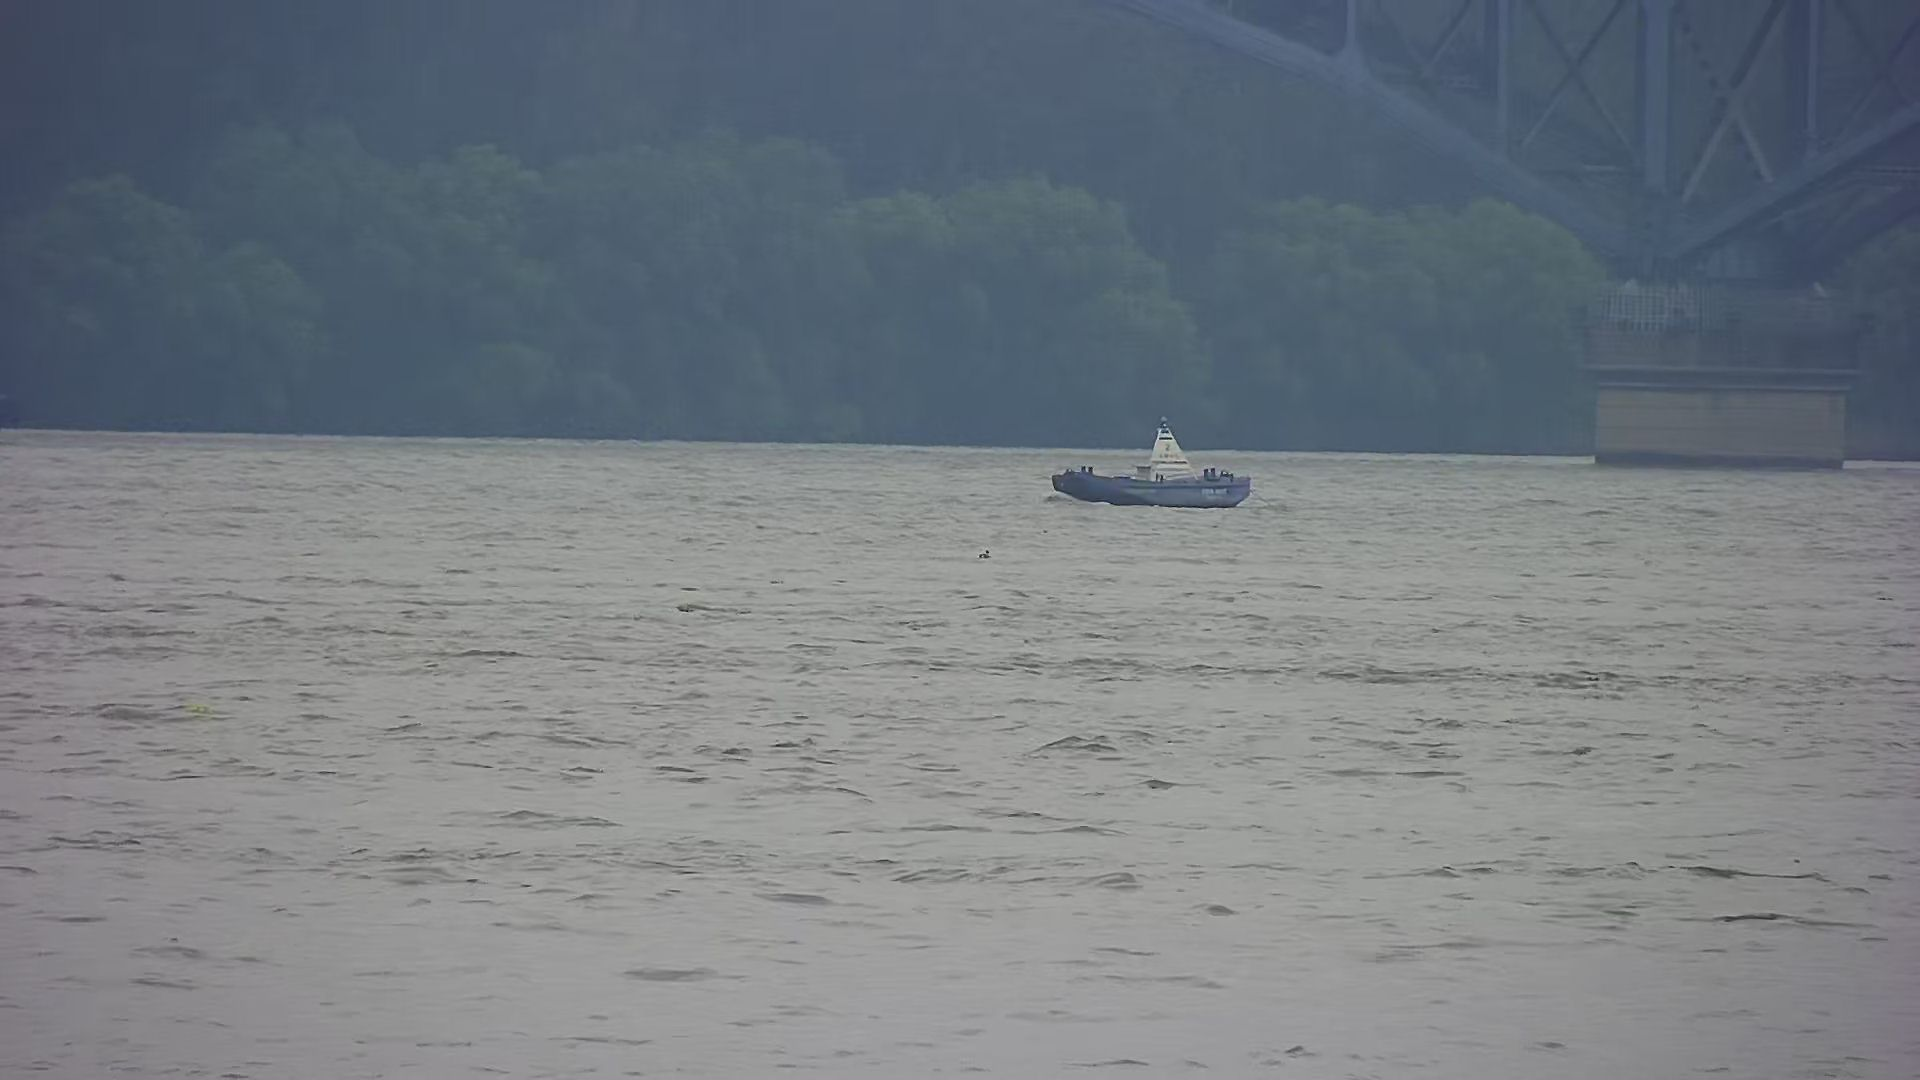boat: (1047, 407, 1263, 520)
bridge: (1102, 1, 1916, 479)
